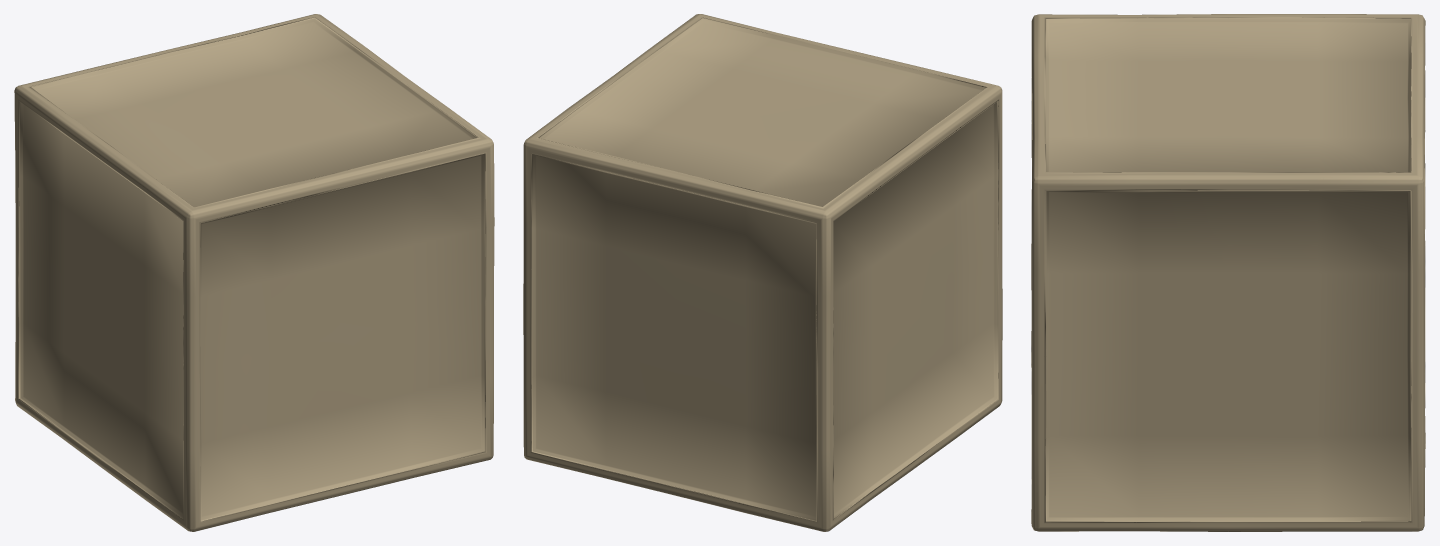
The model's file is floor_2.fbx.
3 views of the same model, side by side, from view 1: azimuth 30°, elevation 25°; view 2: azimuth 150°, elevation 25°; view 3: azimuth 270°, elevation 25° (orthographic). The views are drawn at different scales.
Parts seen in each view (by area): view 1: floor_2; view 2: floor_2; view 3: floor_2.
Boxes of the visible parts, box(x1,y1,x2,y2) form: floor_2: box(14, 14, 494, 531); floor_2: box(523, 14, 1002, 531); floor_2: box(1031, 14, 1425, 531).
Size of the model in its own units: 0.5018 by 0.5018 by 0.5019.
